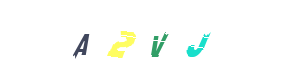2: (82, 0, 162, 80)
A: (80, 0, 160, 80)
J: (155, 0, 235, 80)
V: (105, 0, 185, 80)
